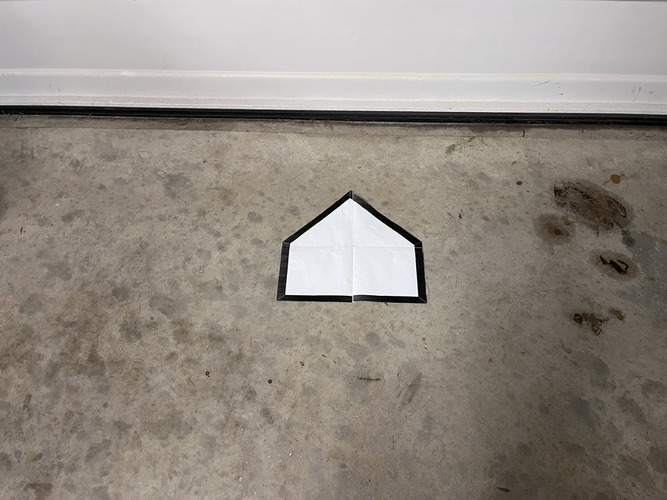homeplate: (276, 189, 426, 303)
